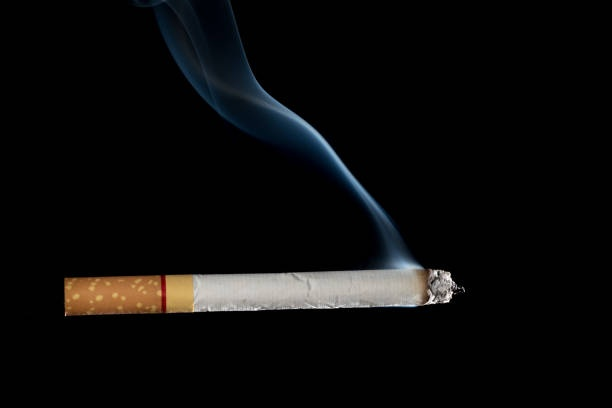sigaretta: (57, 264, 461, 324)
